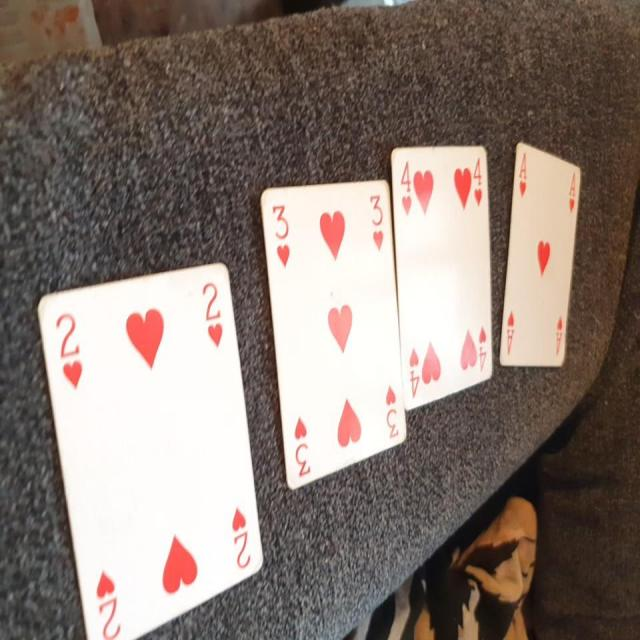2 Hearts: (27, 259, 267, 625)
3 Hearts: (256, 175, 408, 488)
4 Hearts: (384, 138, 502, 412)
A Hearts: (498, 134, 584, 382)
